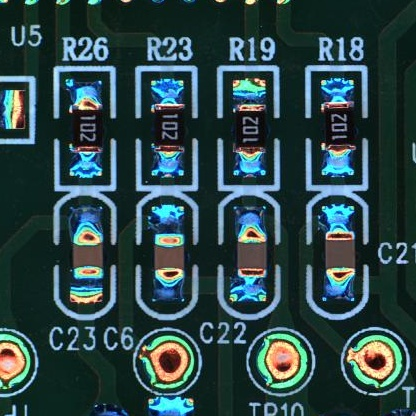spot: (345, 334, 403, 388), (139, 335, 195, 389), (256, 333, 309, 388), (1, 334, 30, 389)
